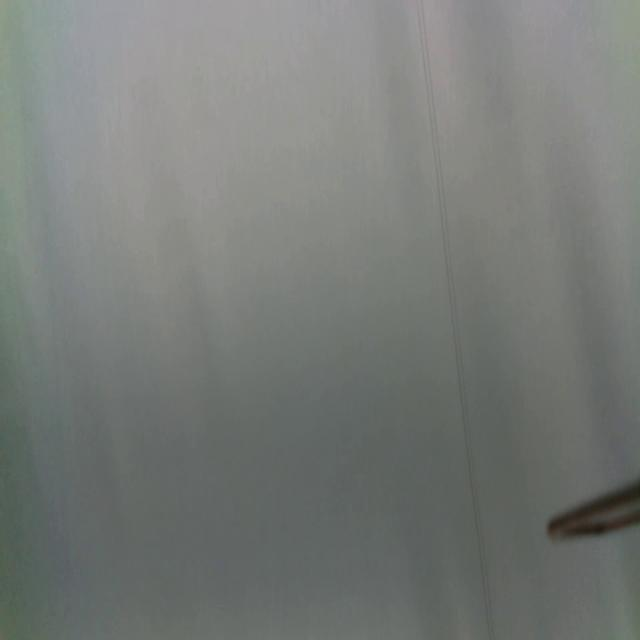crease: (418, 0, 491, 639)
